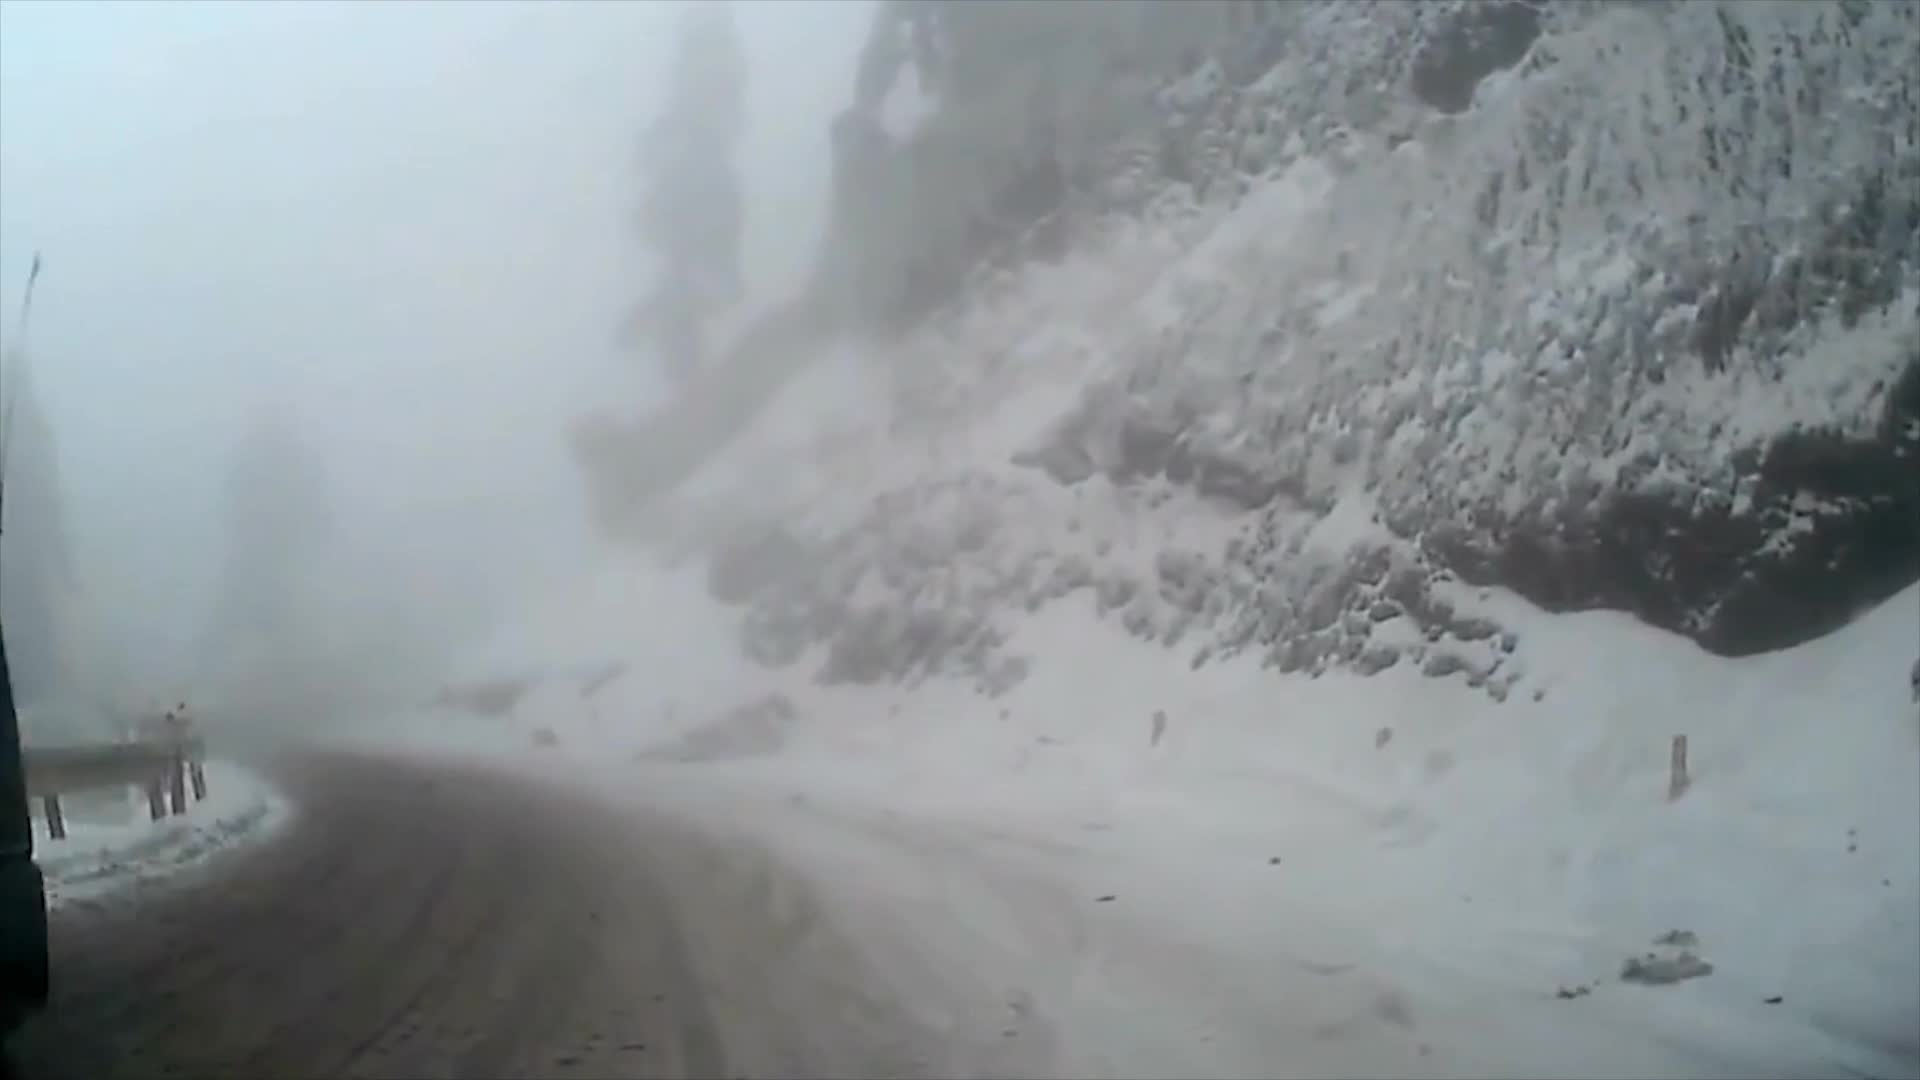vehicle: (0, 621, 51, 1079)
